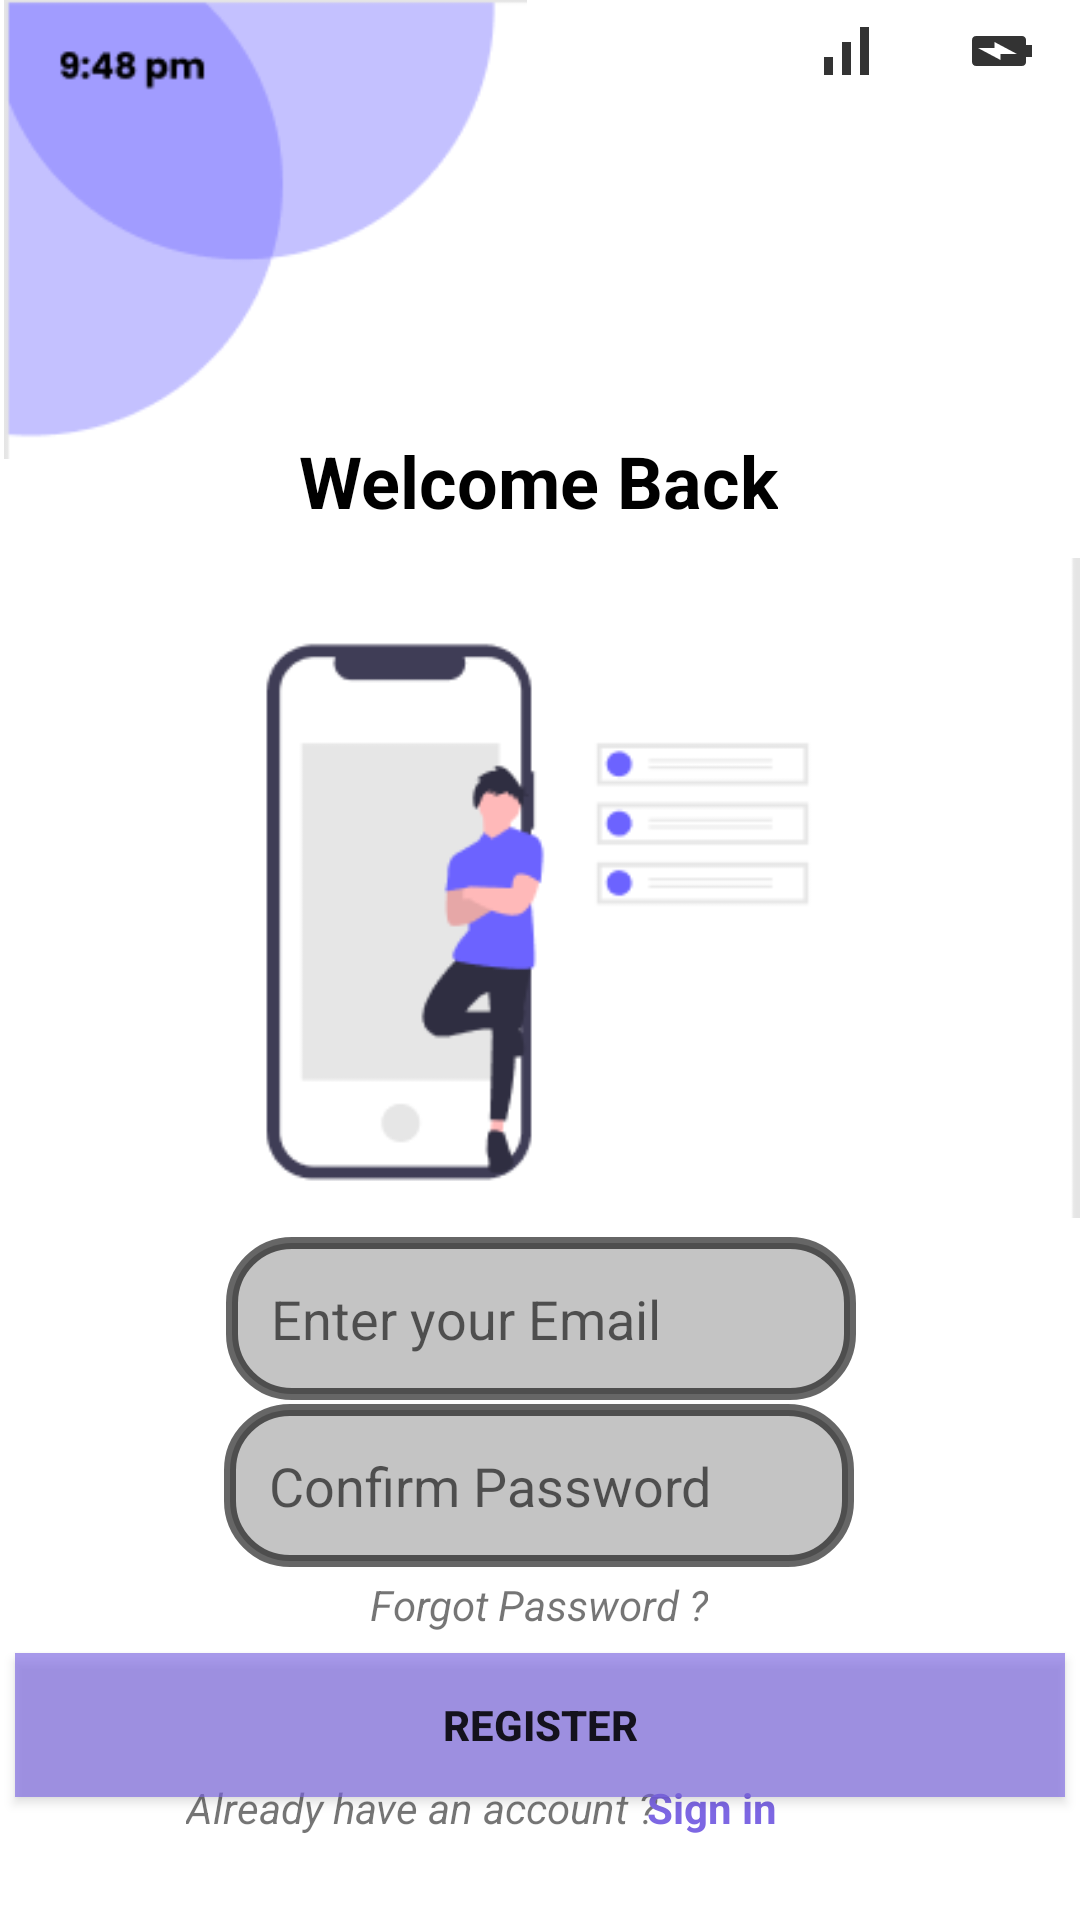

Icon bounding boxes for this 1080w x 1920h phone screenshot, format (x1, y1, x2, y2):
signal: (824, 27, 869, 75)
